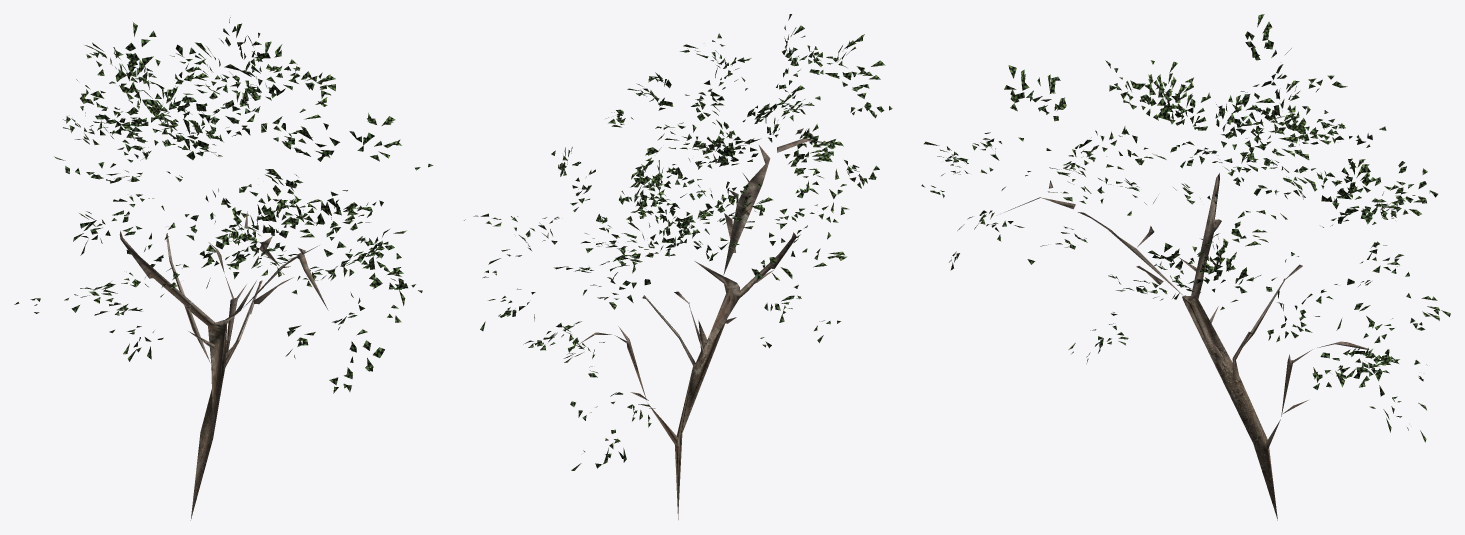
Rendered from tree-far.glb.
3 views of the same model, side by side, from view 1: azimuth 30°, elevation 25°; view 2: azimuth 150°, elevation 25°; view 3: azimuth 270°, elevation 25° (orthographic). The views are drawn at different scales.
Visible parts, largest first — view 1: tree_small_02_LOD0; view 2: tree_small_02_LOD0; view 3: tree_small_02_LOD0.
Part boxes in pixels (x1=…): tree_small_02_LOD0: x1=14, y1=17, x2=433, y2=520; tree_small_02_LOD0: x1=464, y1=14, x2=892, y2=519; tree_small_02_LOD0: x1=921, y1=14, x2=1450, y2=520.
Bounding box in the file's own units: 2.77 × 3.84 × 4.04.
3 materials, 3 textured.
